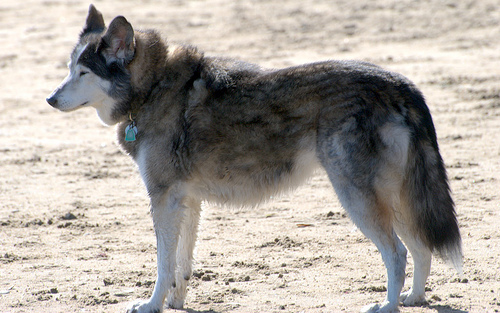dog: (47, 3, 464, 312)
